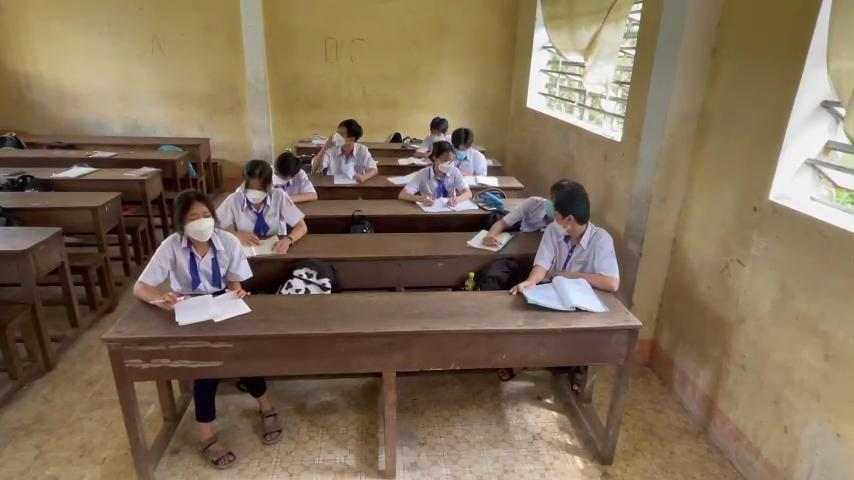Look Around: (550, 188, 588, 242), (329, 101, 366, 155), (422, 136, 462, 180)
Wave: (301, 134, 336, 177)
